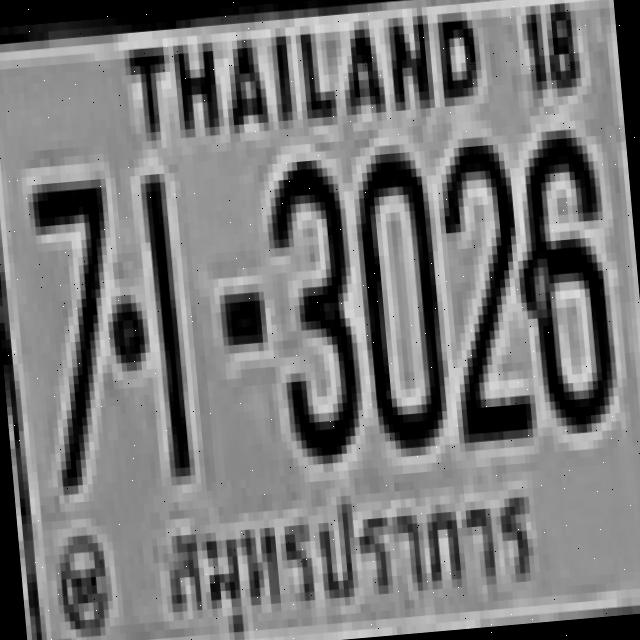0: (350, 142, 444, 442)
1: (140, 173, 190, 477)
2: (433, 136, 527, 434)
3: (261, 150, 361, 458)
6: (506, 119, 616, 428)
7: (26, 170, 127, 488)
SamutPrakan: (152, 469, 550, 640)
